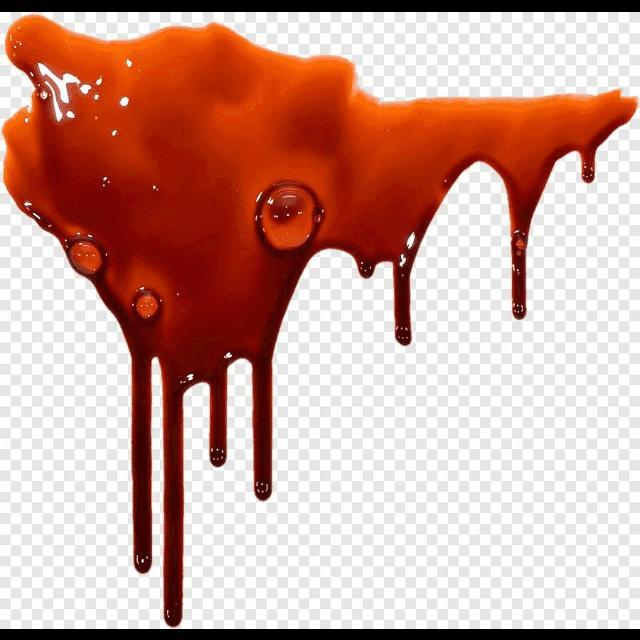blood: (1, 12, 639, 626)
